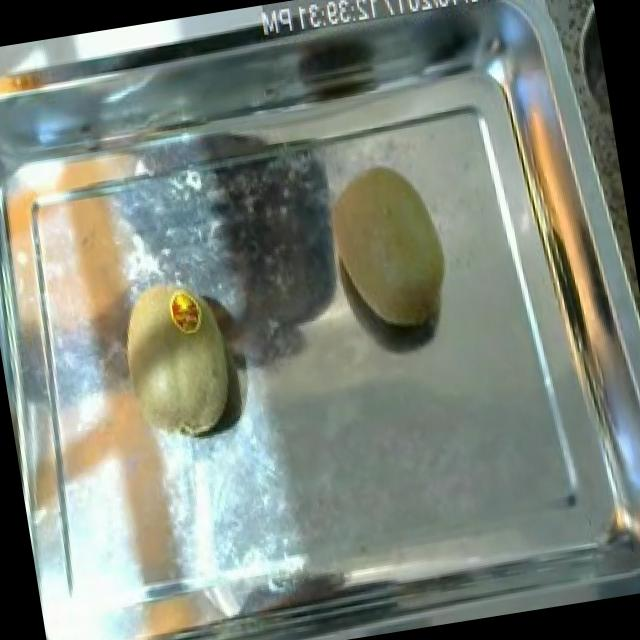Fruit: (101, 262, 256, 460), (312, 151, 463, 349)
